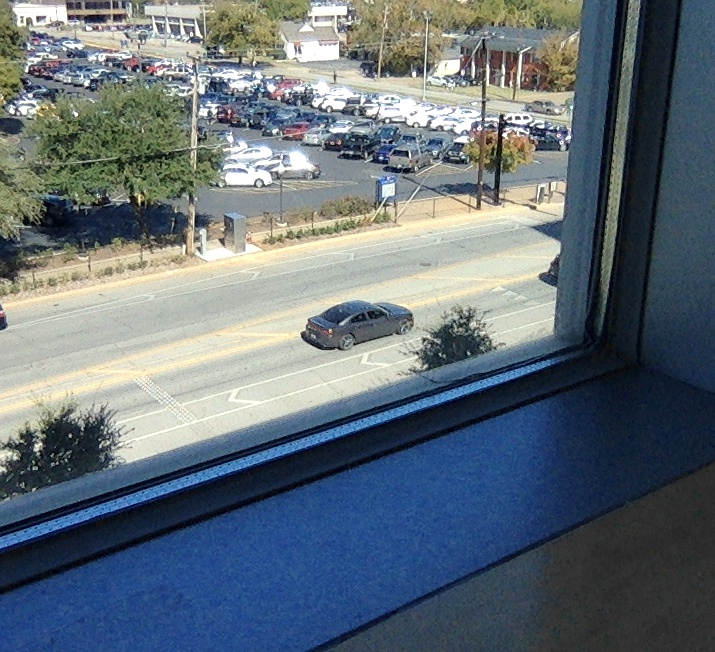car: (300, 300, 415, 352)
